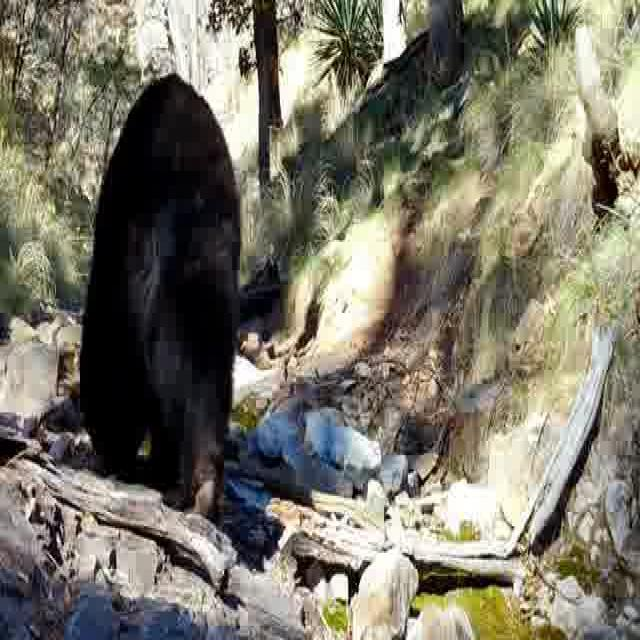bear face: (80, 76, 241, 513)
